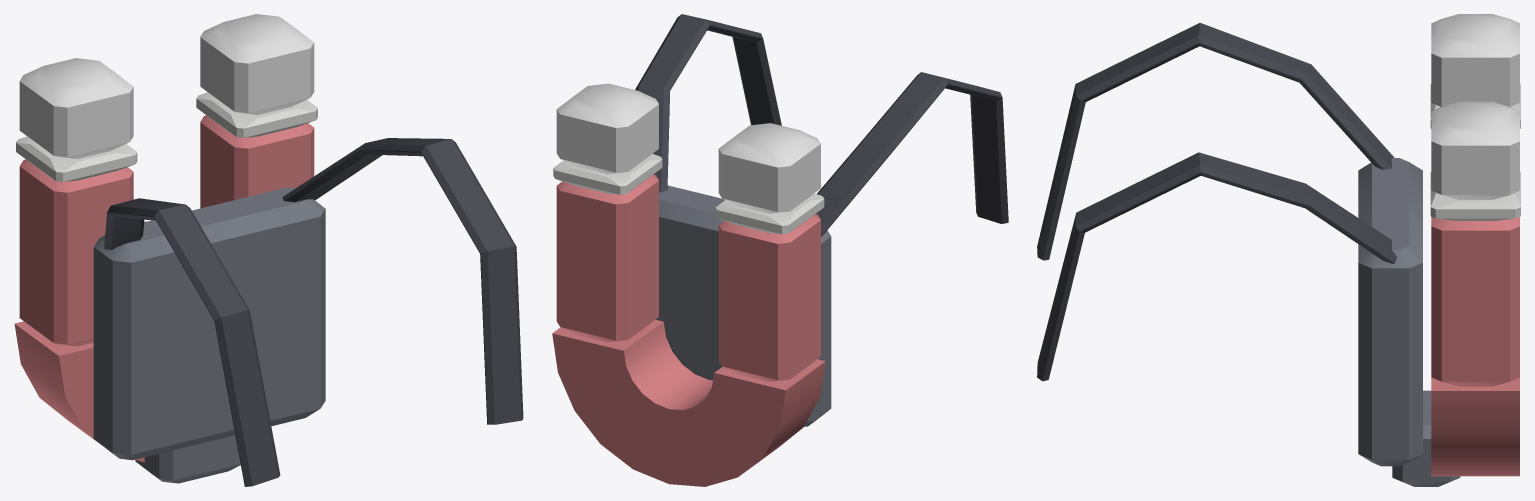
Rendered from gear_aimant.glb.
The picture shows the model from 3 angles, left to right: view 1: azimuth 30°, elevation 25°; view 2: azimuth 150°, elevation 25°; view 3: azimuth 270°, elevation 25°; orthographic projection. The views are drawn at different scales.
Parts seen in each view (by area): view 1: torso__aimant, torso__aimant_glow; view 2: torso__aimant, torso__aimant_glow; view 3: torso__aimant, torso__aimant_glow.
Part boxes in pixels (<box>): torso__aimant: <box>14,92,523,486</box>; torso__aimant_glow: <box>19,14,314,158</box>; torso__aimant: <box>552,14,1008,486</box>; torso__aimant_glow: <box>556,83,820,213</box>; torso__aimant: <box>1037,23,1520,486</box>; torso__aimant_glow: <box>1431,14,1519,199</box>.
Size of the model in its own units: 0.204 by 0.257 by 0.2841.
